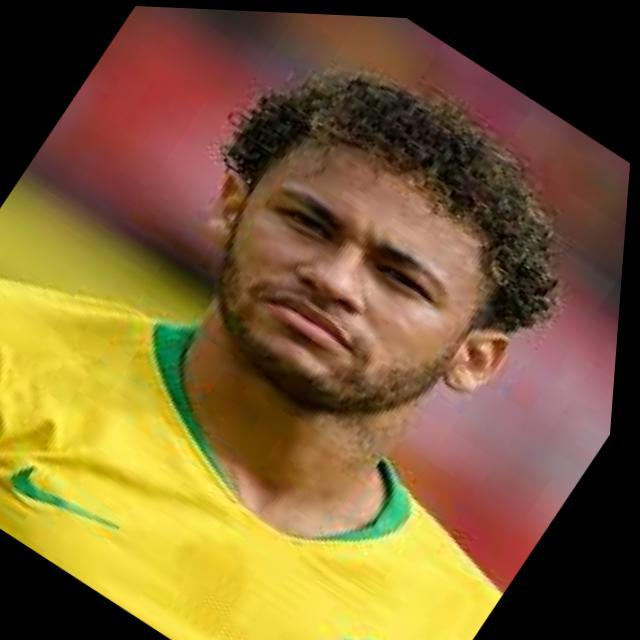Nonhelmet: (196, 62, 567, 423)
